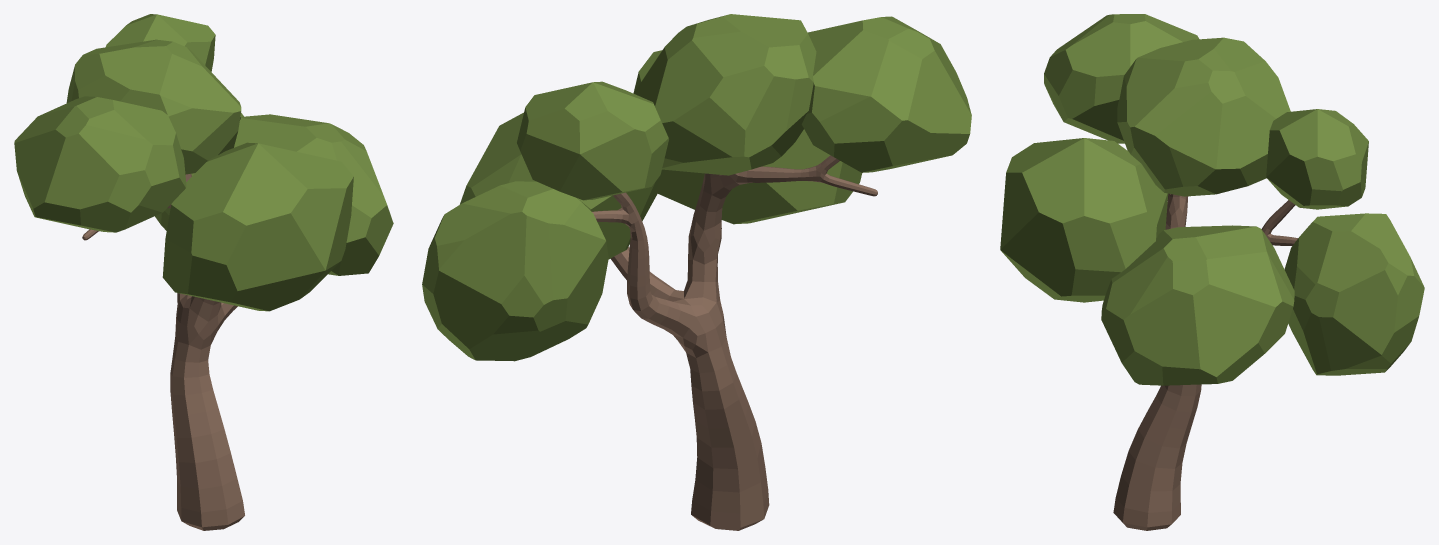
File: Tree_01.fbx
3 views of the same model, side by side, from view 1: azimuth 30°, elevation 25°; view 2: azimuth 150°, elevation 25°; view 3: azimuth 270°, elevation 25° (orthographic). The views are drawn at different scales.
Parts seen in each view (by area): view 1: Leaf_01.004, Leaf_01.001, Wood_01, Leaf_01.005, Leaf_01.002, Leaf_01.003; view 2: Leaf_01, Wood_01, Leaf_01.005, Leaf_01.001, Leaf_01.003, Leaf_01.004, Leaf_01.002; view 3: Leaf_01.002, Leaf_01.005, Leaf_01.004, Leaf_01, Leaf_01.001, Wood_01, Leaf_01.003.
Part boxes in pixels (<box>): Leaf_01.004: <box>162,142,353,311</box>; Leaf_01.001: <box>14,96,186,232</box>; Wood_01: <box>82,173,244,530</box>; Leaf_01.005: <box>66,39,241,174</box>; Leaf_01.002: <box>234,114,393,275</box>; Leaf_01.003: <box>106,14,215,71</box>; Leaf_01: <box>422,181,608,361</box>; Wood_01: <box>592,155,877,530</box>; Leaf_01.005: <box>634,14,816,175</box>; Leaf_01.001: <box>801,16,971,172</box>; Leaf_01.003: <box>517,81,668,200</box>; Leaf_01.004: <box>633,50,862,224</box>; Leaf_01.002: <box>460,112,664,259</box>; Leaf_01.002: <box>1101,225,1294,385</box>; Leaf_01.005: <box>1117,37,1290,196</box>; Leaf_01.004: <box>1000,138,1168,302</box>; Leaf_01: <box>1284,213,1424,375</box>; Leaf_01.001: <box>1044,14,1199,143</box>; Wood_01: <box>1113,193,1297,530</box>; Leaf_01.003: <box>1266,109,1368,209</box>.
Bounding box in the file's own units: 264 × 296 × 251.
